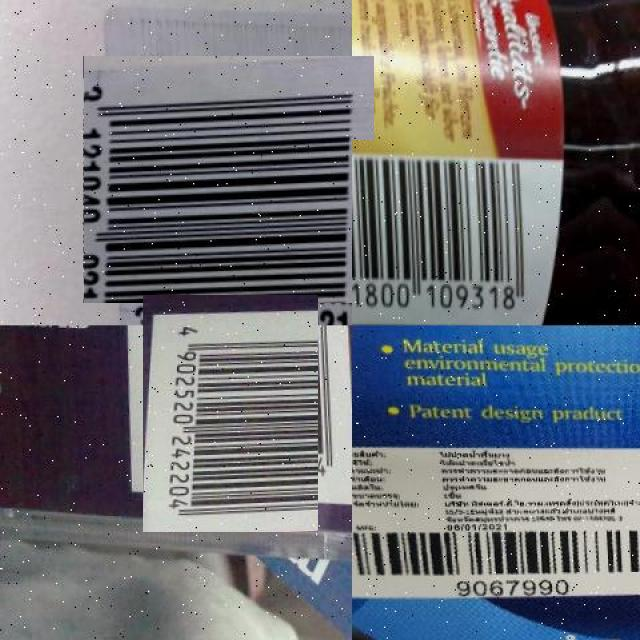Barcode: (94, 45, 363, 314), (127, 310, 334, 517), (352, 140, 536, 319), (352, 517, 640, 595)
